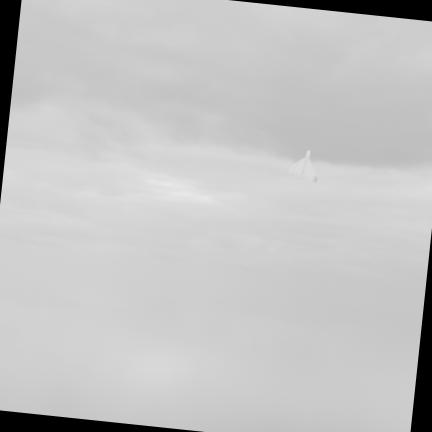Shahed: (289, 150, 318, 182)
